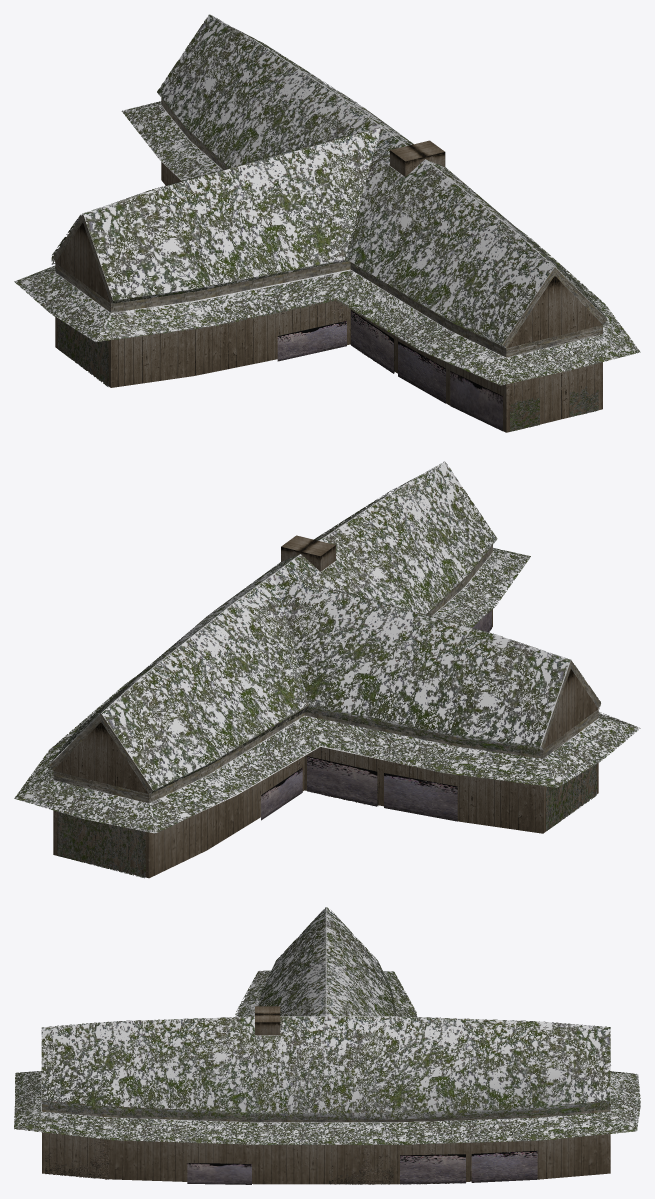
Rendered from T-House_LOD04.fbx.
3 renders of one model, top to bottom at view 1: azimuth 30°, elevation 25°; view 2: azimuth 150°, elevation 25°; view 3: azimuth 270°, elevation 25°, orthographic. The views are drawn at different scales.
Parts seen in each view (by area): view 1: T-House_LOD04; view 2: T-House_LOD04; view 3: T-House_LOD04.
Boxes of the visible parts, bbox=[...] form: T-House_LOD04: bbox=[14, 14, 640, 432]; T-House_LOD04: bbox=[14, 461, 640, 878]; T-House_LOD04: bbox=[14, 907, 640, 1184].
Size of the model in its own units: 1460 by 546 by 2205.
